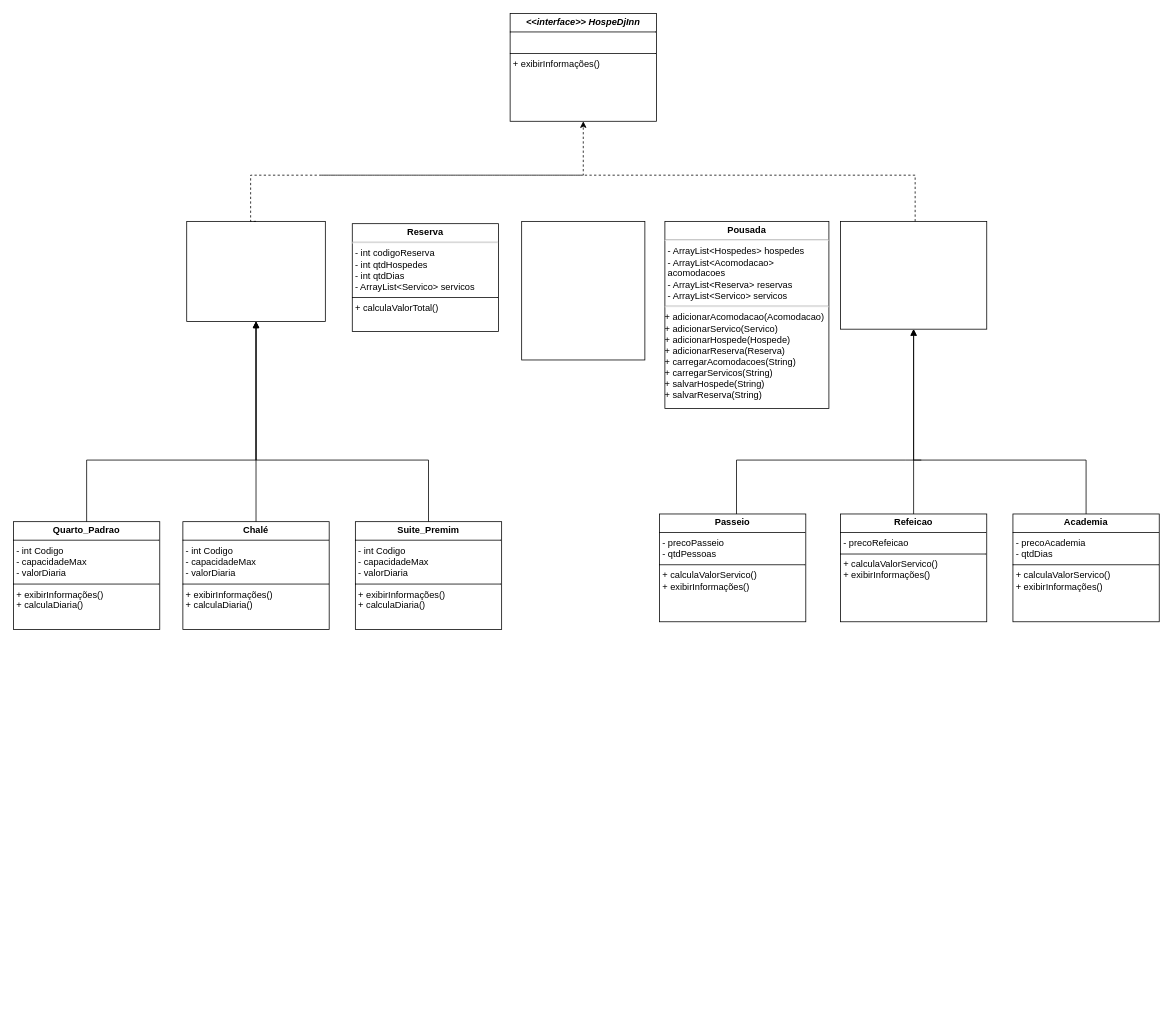
This 1173x1019 diagram has some shape labels left out. Here are the shapes that lost their labels. From the top down, the centre of each, then its label:
At [255,271]: "Acomodacao - codigo - capacidadeMax - valorDiaria + calculaDiaria()".
At [583,290]: "Hospedes - nome - idade - CPF + exibirInformações()".
At [913,275]: "Serviço - codigoServico - descricaoServico + calculaValorServico()".
